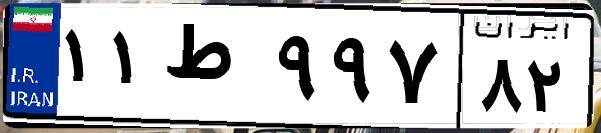1: (57, 26, 110, 100), (110, 28, 158, 98)
2: (525, 38, 570, 115)
7: (385, 28, 445, 110)
8: (475, 38, 525, 113)
9: (270, 28, 330, 110), (330, 28, 385, 110)
ط: (158, 20, 270, 120)
